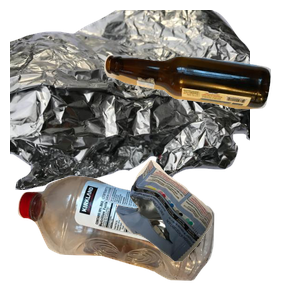glass: (101, 52, 300, 154)
metal: (10, 10, 250, 190)
plastic: (15, 173, 222, 300)
trash: (113, 157, 300, 300)
